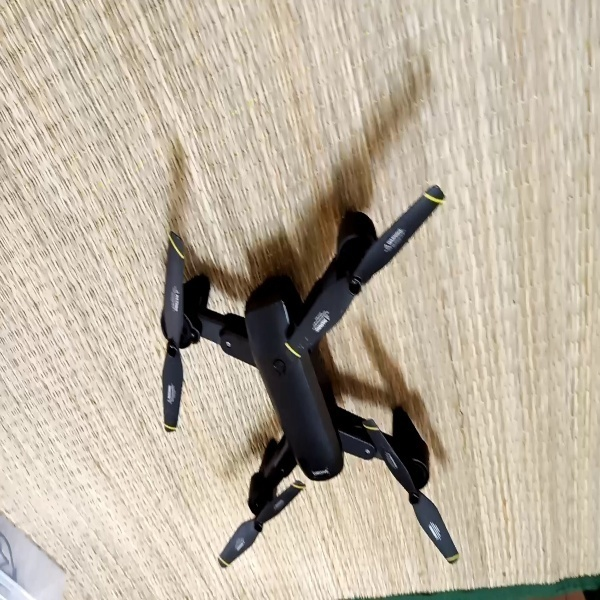drone: (150, 181, 464, 569)
